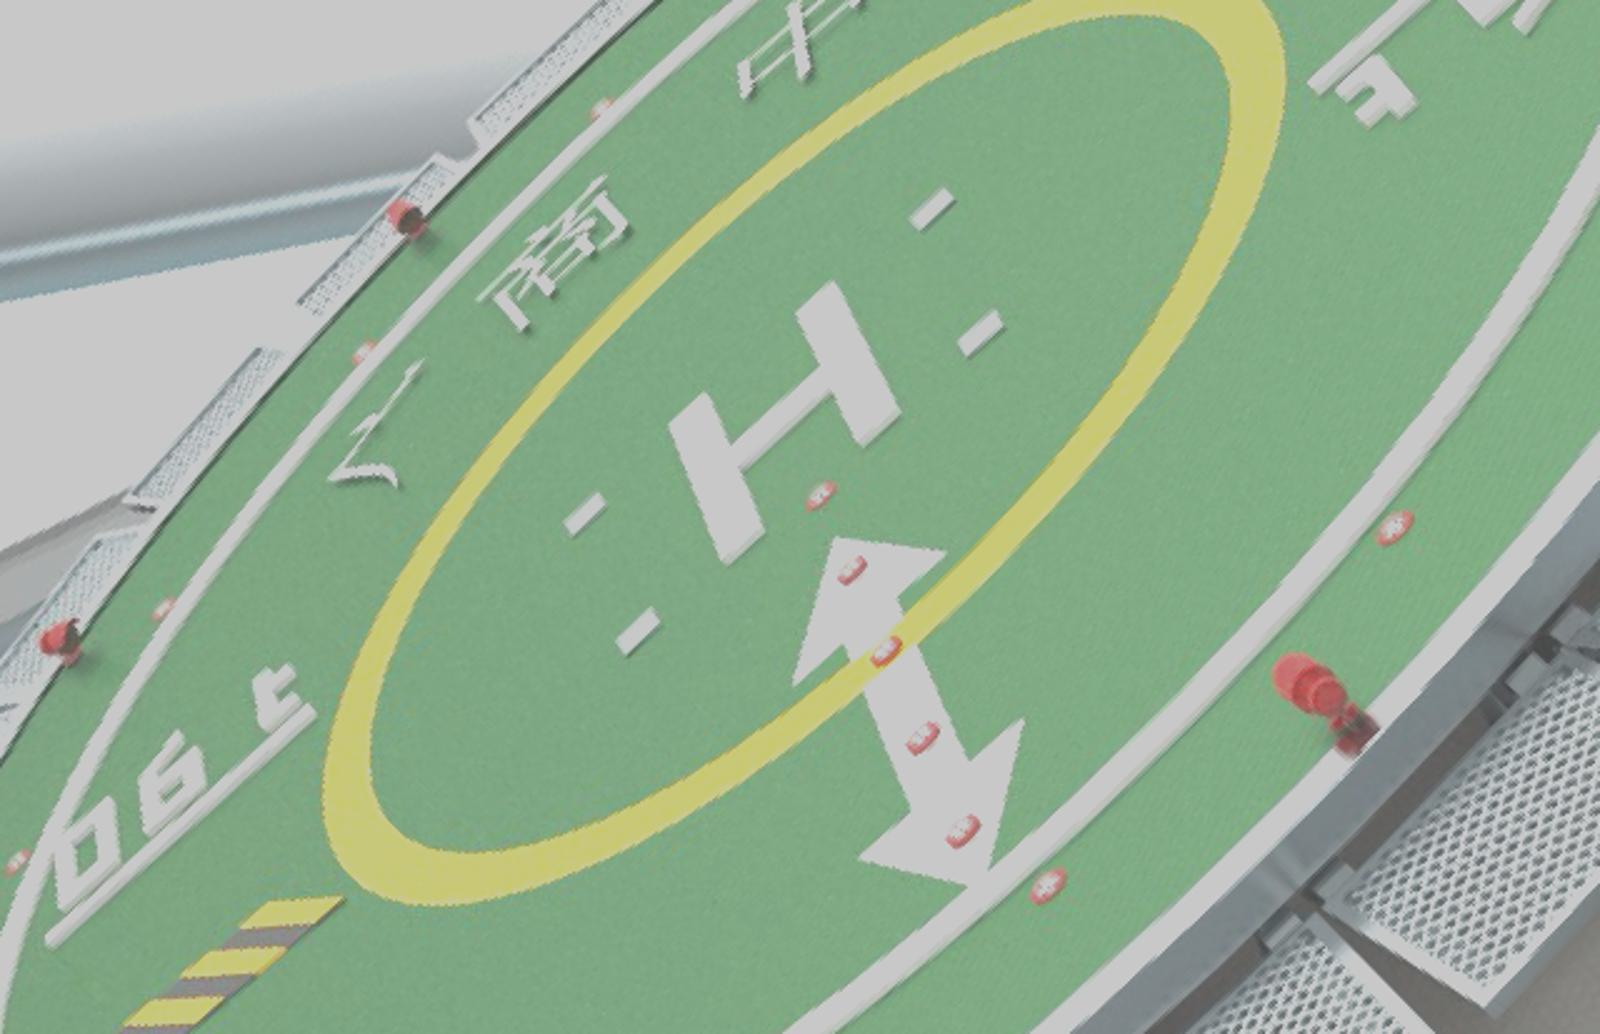Apron: (310, 3, 1304, 915)
